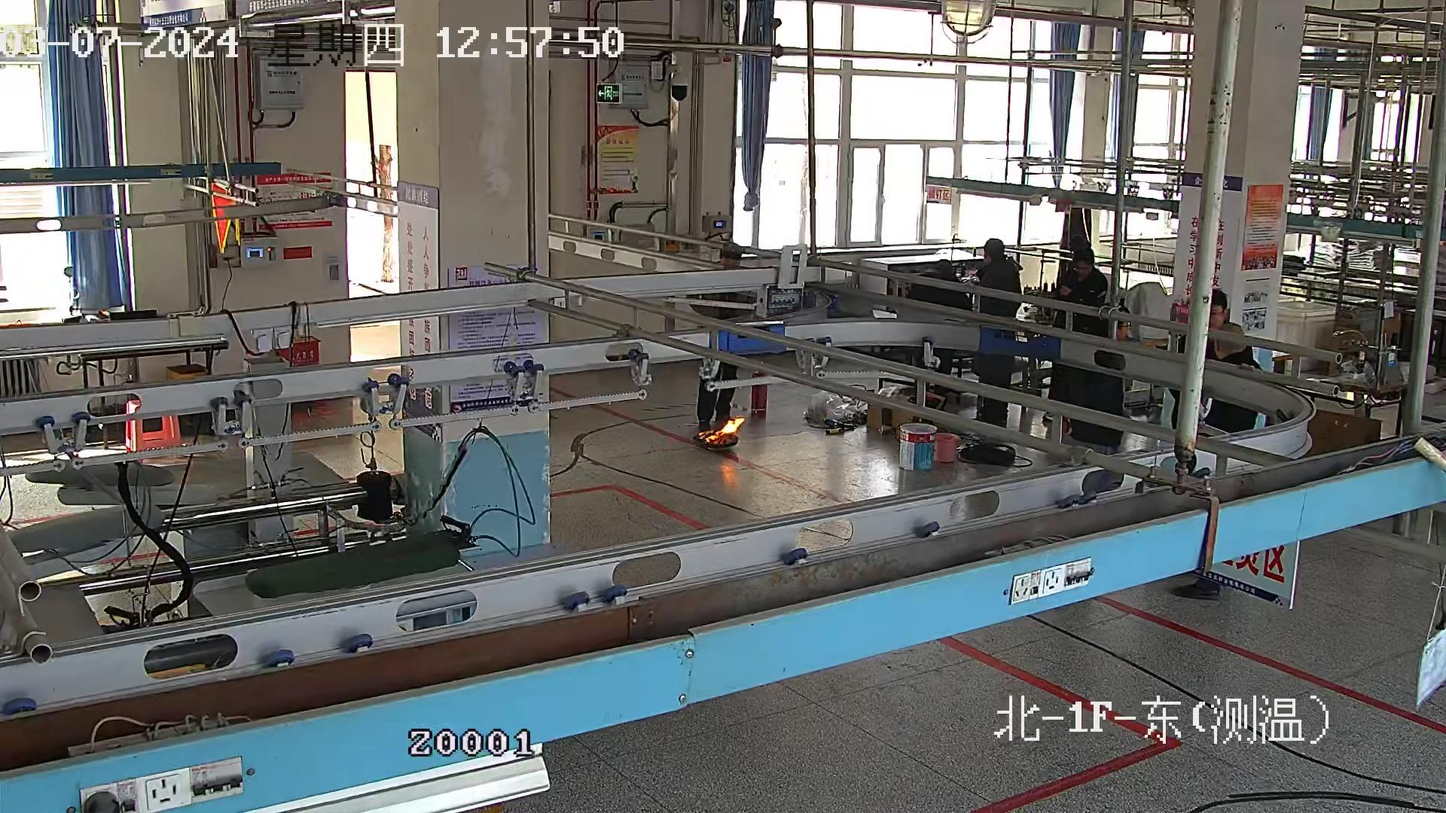fire: (694, 416, 745, 447)
